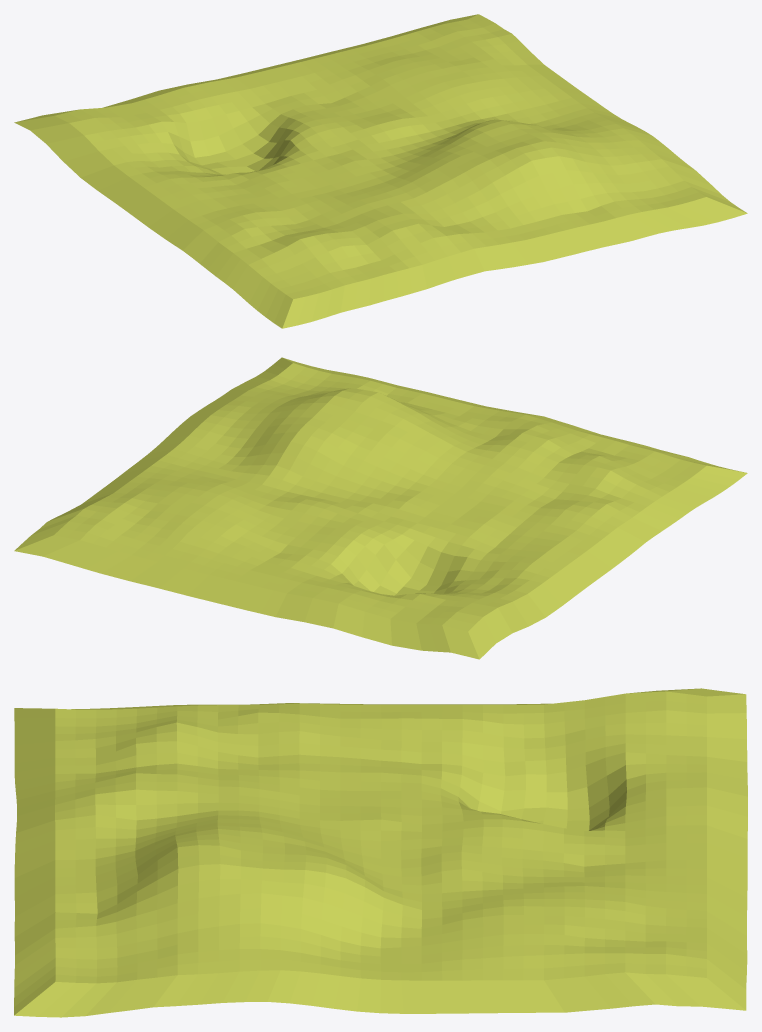
File: sand.fbx
3 views of the same model, one above another, from view 1: azimuth 30°, elevation 25°; view 2: azimuth 150°, elevation 25°; view 3: azimuth 270°, elevation 25° (orthographic). The views are drawn at different scales.
Parts seen in each view (by area): view 1: sand; view 2: sand; view 3: sand.
Boxes of the visible parts, x1,y1,x2,y2 form: sand: (14,14,747,328); sand: (14,357,747,659); sand: (14,688,747,1017).
Bounding box in the file's own units: 2255 × 344 × 2253.
